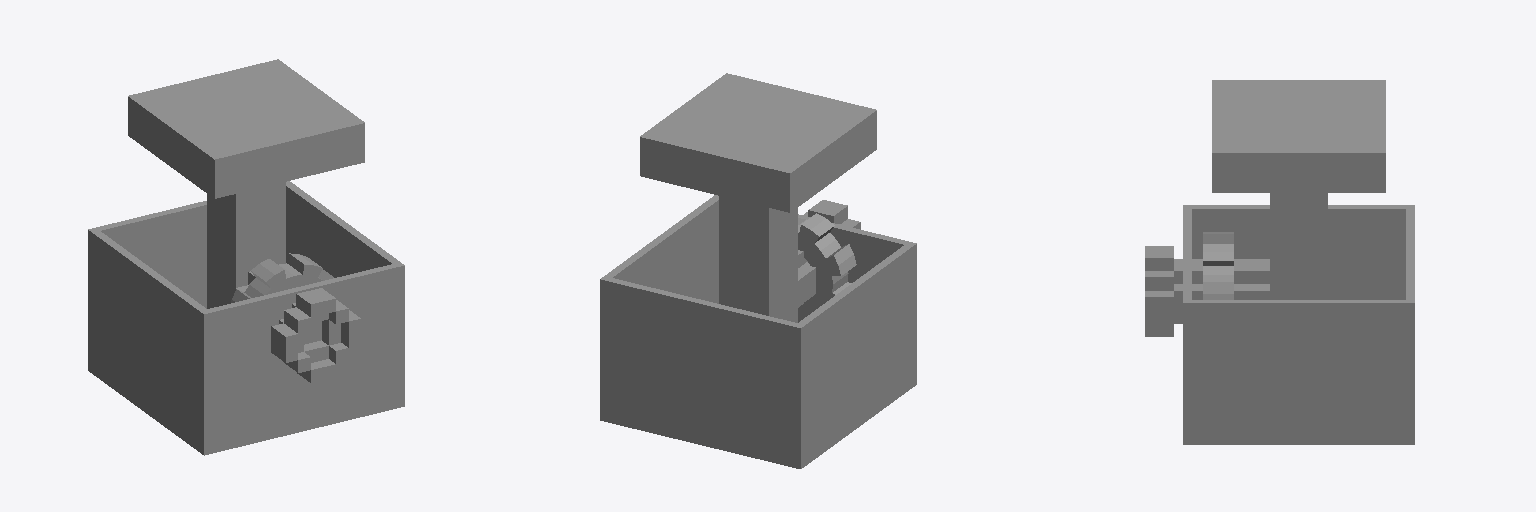
Rendered from auto_sifter_total.obj.
3 views of the same model, side by side, from view 1: azimuth 30°, elevation 25°; view 2: azimuth 150°, elevation 25°; view 3: azimuth 270°, elevation 25° (orthographic).
Visible parts, largest first — view 1: Cube.007_Cube.001, Cube.006_Cube.007, Rod.000_Cube.008; view 2: Cube.007_Cube.001, Cube.006_Cube.007, Rod.000_Cube.008; view 3: Cube.007_Cube.001, Cube.006_Cube.007, Rod.000_Cube.008.
Boxes of the visible parts, x1=… form: Cube.007_Cube.001: x1=88, y1=181, x2=404, y2=455; Cube.006_Cube.007: x1=128, y1=59, x2=364, y2=308; Rod.000_Cube.008: x1=231, y1=253, x2=360, y2=382; Cube.007_Cube.001: x1=600, y1=195, x2=916, y2=468; Cube.006_Cube.007: x1=640, y1=73, x2=876, y2=322; Rod.000_Cube.008: x1=794, y1=200, x2=860, y2=320; Cube.007_Cube.001: x1=1183, y1=205, x2=1414, y2=444; Cube.006_Cube.007: x1=1212, y1=80, x2=1385, y2=299; Rod.000_Cube.008: x1=1145, y1=232, x2=1277, y2=336.
Size of the model in its own units: 2 by 2.65 by 2.33.